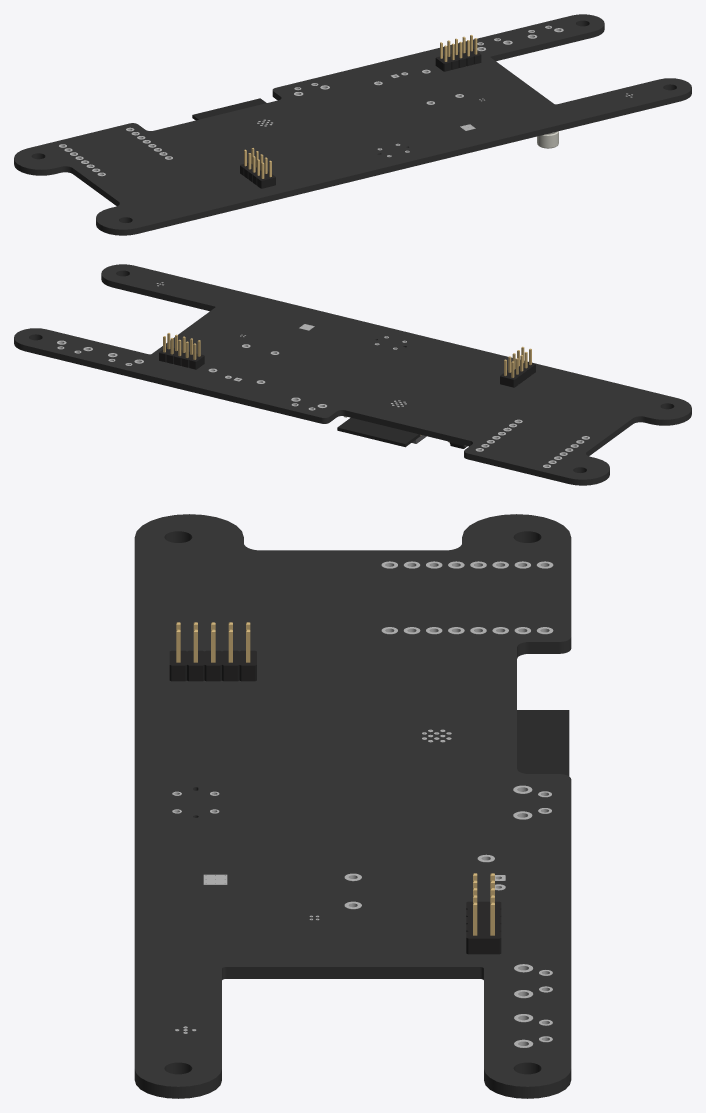
File: main.glb
3 renders of one model, top to bottom at view 1: azimuth 30°, elevation 25°; view 2: azimuth 150°, elevation 25°; view 3: azimuth 270°, elevation 25°, orthographic. The views are drawn at different scales.
Parts seen in each view (by area): view 1: =>[0:1:1:27], =>[0:1:1:26], J4, J3, U11; view 2: =>[0:1:1:27], U11, =>[0:1:1:26], J4, J3; view 3: =>[0:1:1:27], =>[0:1:1:26], J3, U11, J4.
Boxes of the visible parts, <box> form: =>[0:1:1:27]: <box>14,14,691,235</box>; =>[0:1:1:26]: <box>59,25,632,176</box>; J4: <box>435,35,481,71</box>; J3: <box>240,148,275,188</box>; U11: <box>192,98,266,120</box>; =>[0:1:1:27]: <box>14,264,691,485</box>; U11: <box>337,418,426,447</box>; =>[0:1:1:26]: <box>57,282,589,467</box>; J4: <box>159,333,204,369</box>; J3: <box>500,346,535,387</box>; =>[0:1:1:27]: <box>134,514,571,1098</box>; =>[0:1:1:26]: <box>172,561,553,1047</box>; J3: <box>169,622,256,681</box>; U11: <box>517,710,569,775</box>; J4: <box>466,873,501,954</box>.
Bounding box in the file's own units: 0.1553 × 0.0131 × 0.05.
